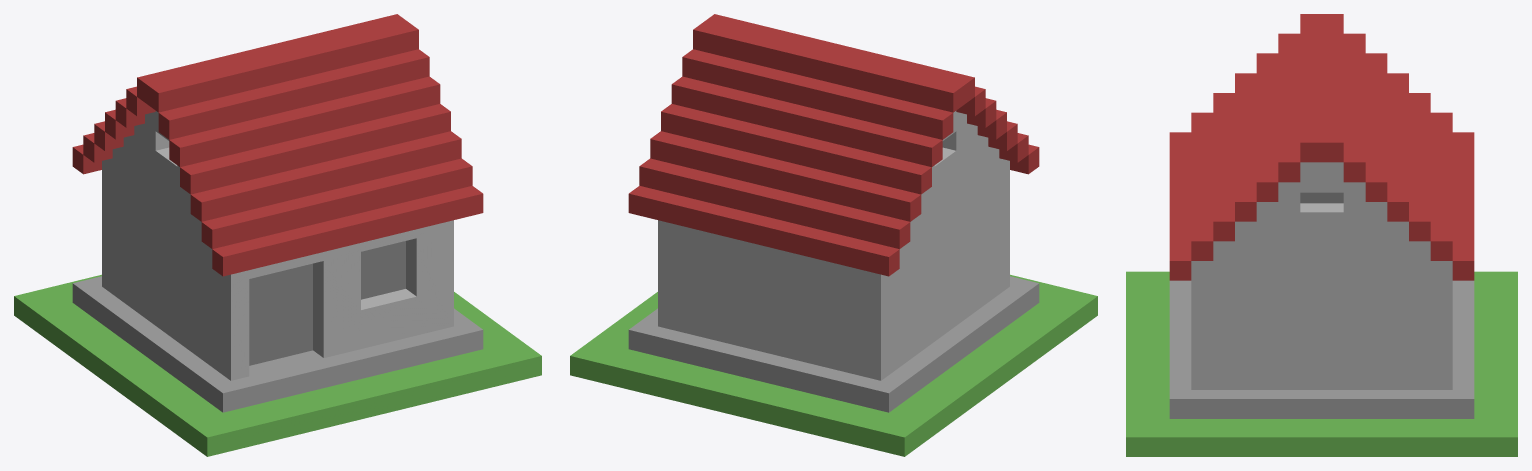
3 views of the same model, side by side, from view 1: azimuth 30°, elevation 25°; view 2: azimuth 150°, elevation 25°; view 3: azimuth 270°, elevation 25° (orthographic).
Parts seen in each view (by area): view 1: 13; view 2: 13; view 3: 13.
Part boxes in pixels (box(x1,y1,x2,y2)): 13: box(14, 14, 541, 456); 13: box(570, 14, 1097, 456); 13: box(1126, 14, 1517, 456).
Bounding box in the file's own units: 450 × 375 × 450.
